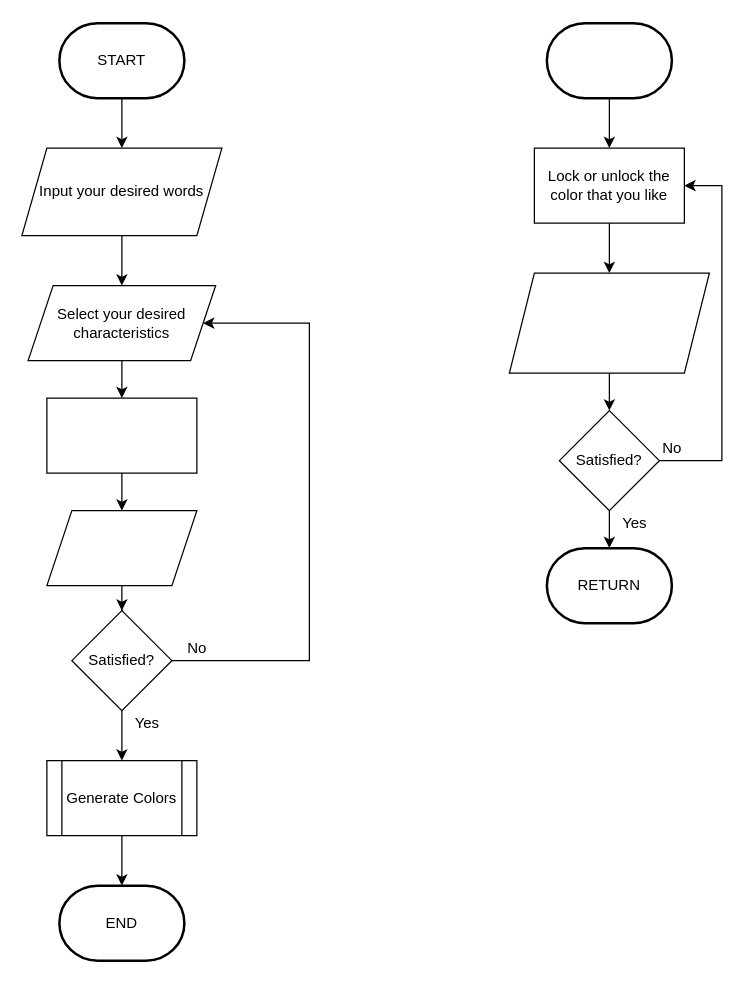
The diagram is 754 pixels wide and 983 high, and some of its shapes have lost their labels. Each missing label, with the centre of its shape:
"Display new generated combination of colors" belongs at [608,322].
"Display the logo" belongs at [121,547].
"Generate the logo with the style" belongs at [121,435].
"GenerateColors" belongs at [608,60].
